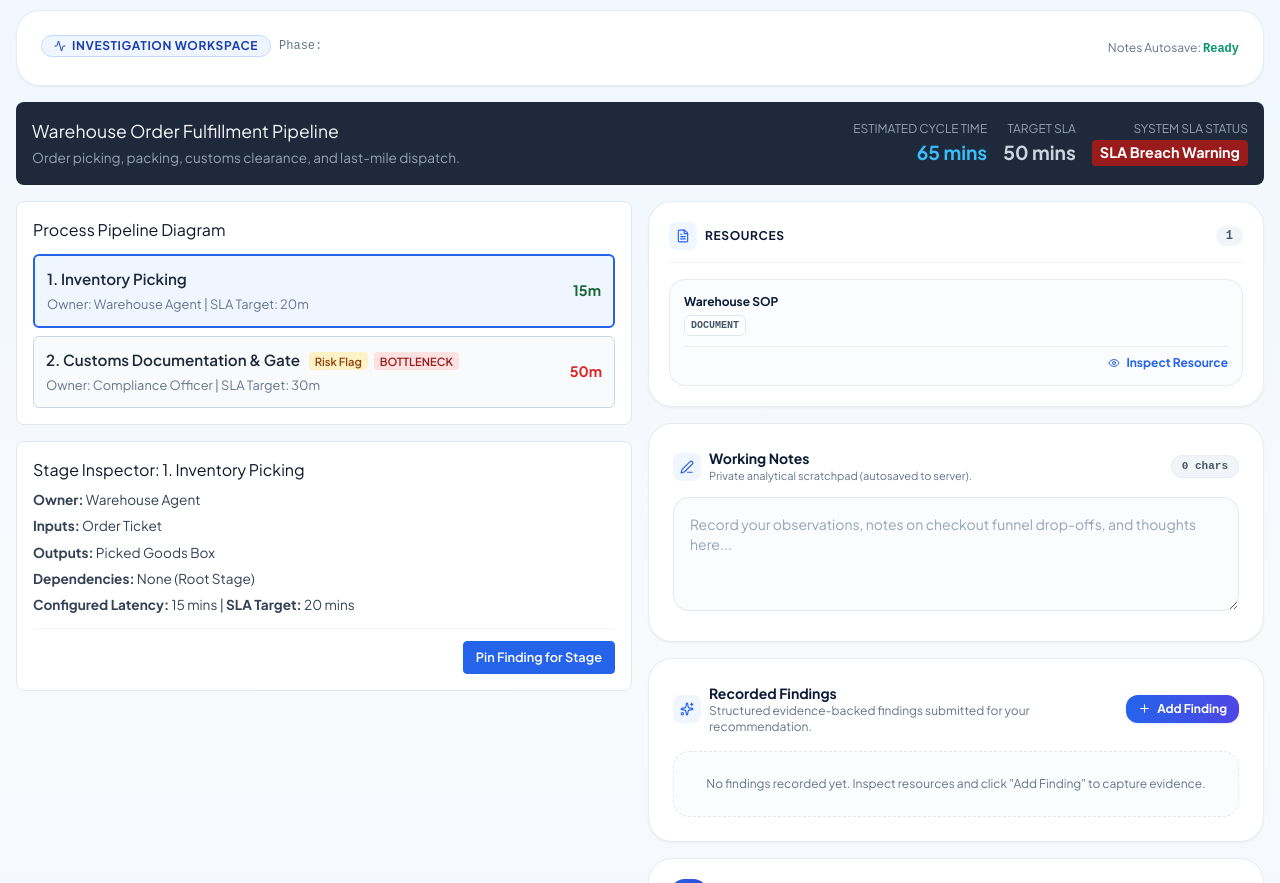
it: ProcessWorkflowWorkspace & WorkspaceRegistry Integration › Pin Finding for Stage prepopulates stage statement without auto-selecting a resource
Click the button "Pin Finding for Stage" at coordinates (539, 657), box [463,641,615,674]
(page scrolled)
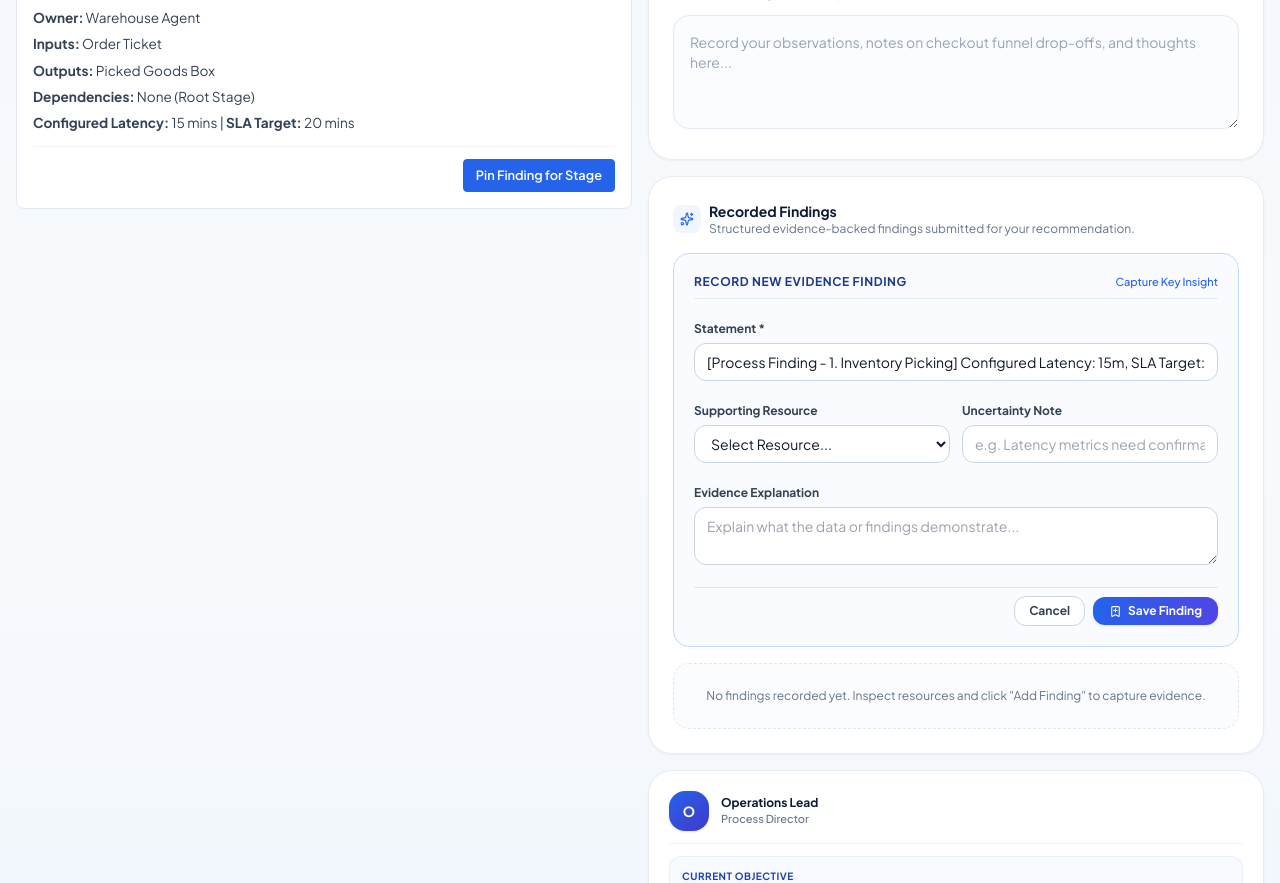
Expected: the field showing "[Process Finding - 1. Inventory Picking]" is shown, [694,343,1218,381]
Expected: the dropdown shows "Select Resource...", [694,425,950,463]
